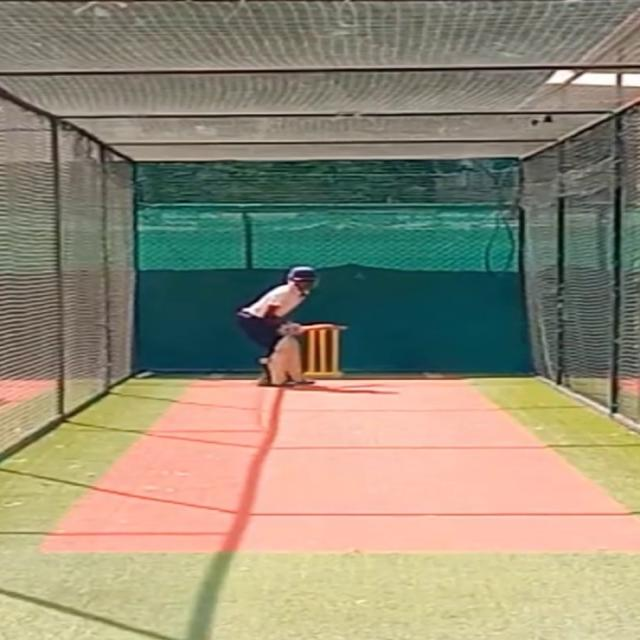stump: (306, 328, 345, 380)
